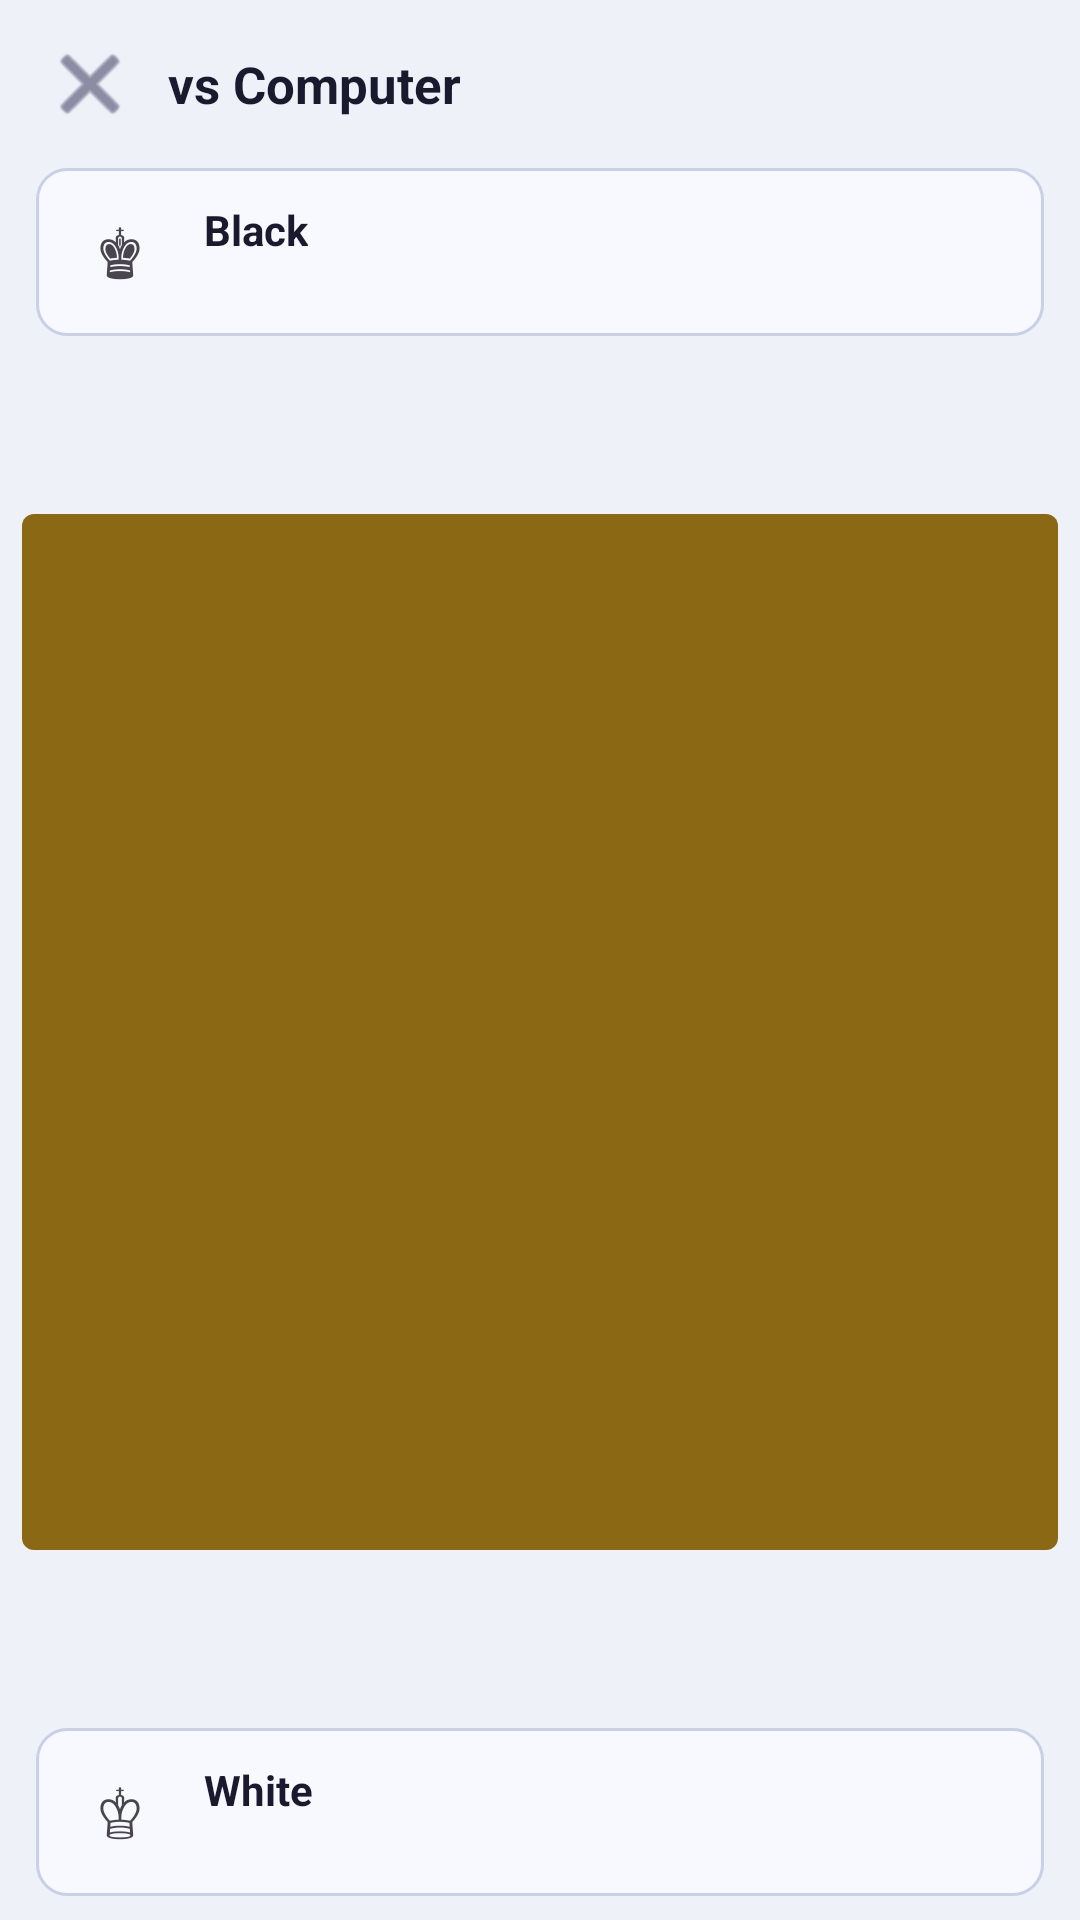

Where to tap for icons on this 1080px x 1920px app screen, as (x,y):
Back: (90,84)
